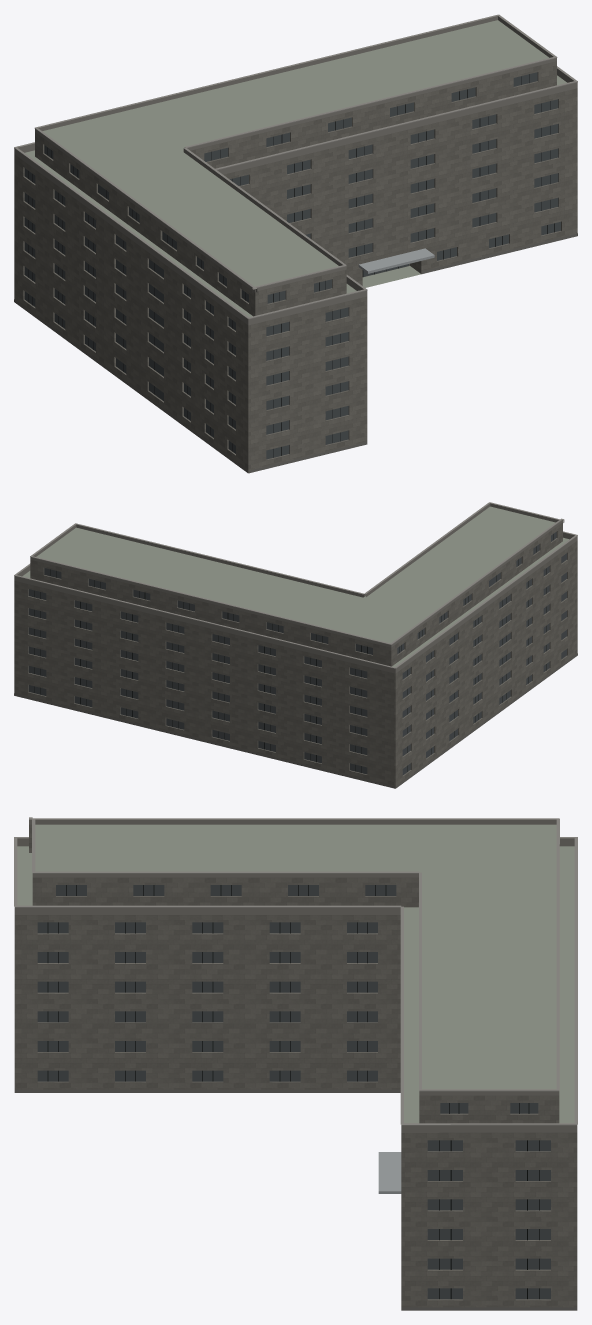
3 views of the same model, one above another, from view 1: azimuth 30°, elevation 25°; view 2: azimuth 150°, elevation 25°; view 3: azimuth 270°, elevation 25° (orthographic). The views are drawn at different scales.
Parts seen in each view (by area): view 1: joManSik__wall, joManSik__roof, joManSik__glass, joManSik__parapet, joManSik__trim, joManSik__base, joManSik__frame, joManSik__canopy; view 2: joManSik__wall, joManSik__roof, joManSik__glass, joManSik__parapet, joManSik__trim, joManSik__base, joManSik__frame; view 3: joManSik__wall, joManSik__roof, joManSik__glass, joManSik__parapet, joManSik__trim, joManSik__base, joManSik__frame, joManSik__canopy.
Part boxes in pixels (x1,y1,x2,y2): joManSik__wall: [14, 61, 577, 473]; joManSik__roof: [25, 20, 566, 317]; joManSik__glass: [24, 72, 560, 459]; joManSik__parapet: [14, 16, 577, 325]; joManSik__trim: [14, 14, 577, 319]; joManSik__base: [14, 233, 577, 473]; joManSik__frame: [28, 74, 554, 457]; joManSik__canopy: [358, 248, 434, 273]; joManSik__wall: [14, 522, 577, 788]; joManSik__roof: [22, 506, 569, 667]; joManSik__glass: [28, 532, 566, 775]; joManSik__parapet: [14, 503, 577, 673]; joManSik__trim: [14, 502, 577, 668]; joManSik__base: [14, 653, 577, 788]; joManSik__frame: [34, 534, 553, 772]; joManSik__wall: [14, 824, 577, 1307]; joManSik__roof: [17, 824, 574, 1123]; joManSik__glass: [37, 885, 550, 1299]; joManSik__parapet: [14, 819, 577, 1132]; joManSik__trim: [14, 817, 577, 1125]; joManSik__base: [14, 1089, 577, 1310]; joManSik__frame: [47, 885, 539, 1299]; joManSik__canopy: [378, 1152, 401, 1193].
Size of the model in its own units: 75.06 by 25.82 by 62.12.
9 materials, 1 textured.
